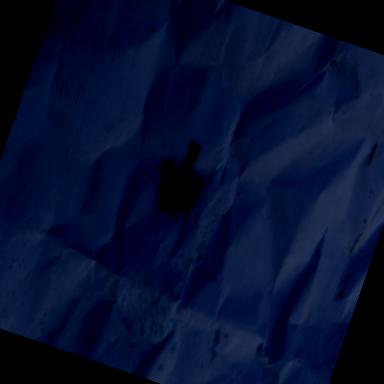pbw: (150, 158, 184, 194), (153, 178, 175, 206)
